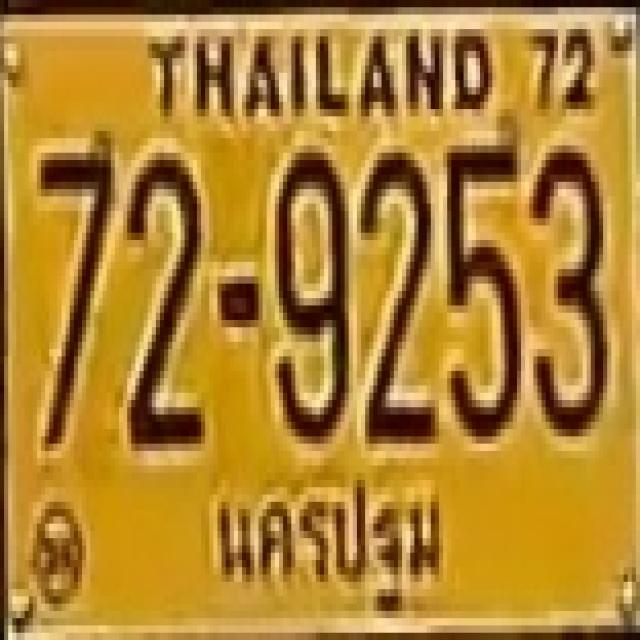2: (125, 149, 199, 440), (359, 146, 433, 437)
3: (529, 138, 603, 429)
5: (443, 138, 517, 436)
7: (37, 131, 111, 444)
9: (275, 146, 344, 437)
NPT: (205, 477, 448, 622)
